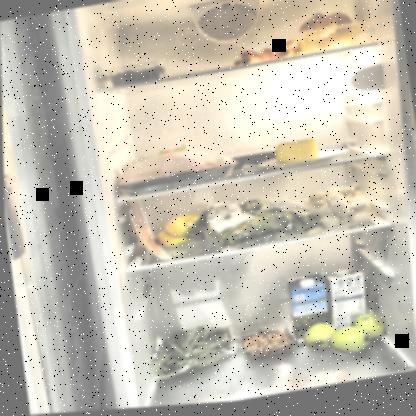apple: (298, 312, 389, 366)
banana: (146, 211, 212, 251)
blueberries: (108, 63, 166, 90)
carrot: (224, 38, 307, 72)
cheese: (270, 139, 319, 171)
chicken: (112, 144, 241, 198)
green_beans: (139, 320, 245, 384)
milk: (285, 277, 333, 352), (324, 271, 370, 347)
mushrooms: (310, 184, 376, 234)
onion: (296, 10, 358, 60)
shrimp: (242, 329, 289, 363)
spinach: (190, 188, 323, 260)
